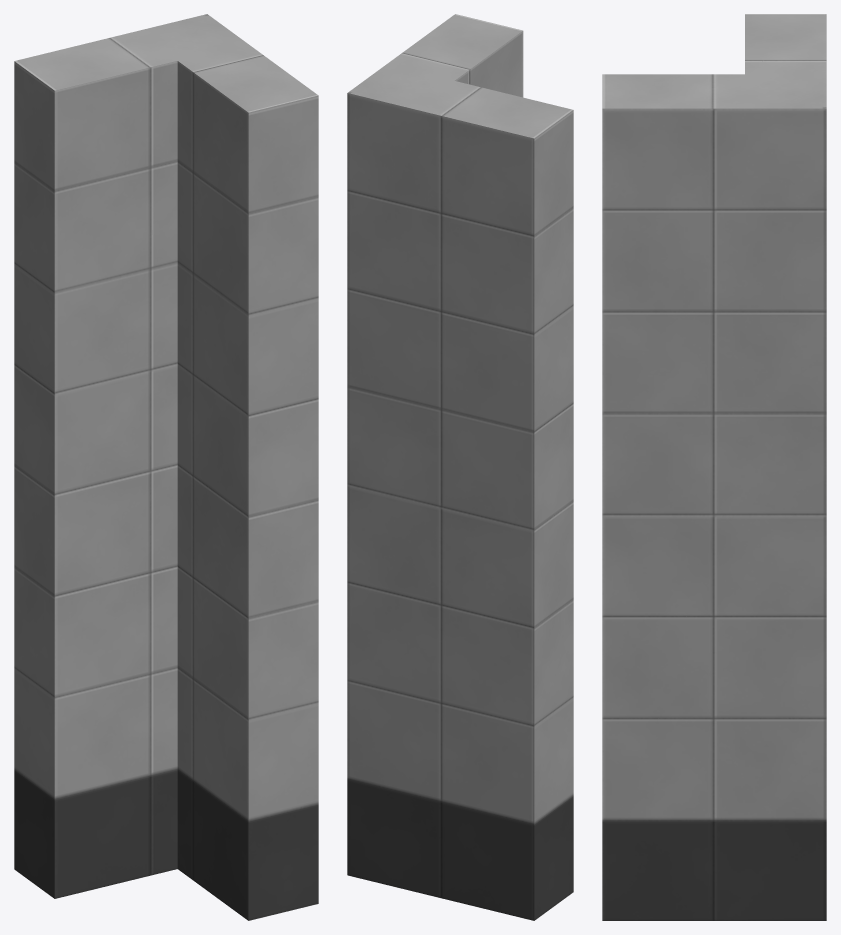
File: wall bathroom small corner.FBX
The picture shows the model from 3 angles, left to right: view 1: azimuth 30°, elevation 25°; view 2: azimuth 150°, elevation 25°; view 3: azimuth 270°, elevation 25°; orthographic projection. The views are drawn at different scales.
Parts seen in each view (by area): view 1: wall bathroom small corner; view 2: wall bathroom small corner; view 3: wall bathroom small corner.
Boxes of the visible parts, <box> form: wall bathroom small corner: <box>14,14,318,920</box>; wall bathroom small corner: <box>347,14,573,920</box>; wall bathroom small corner: <box>602,14,826,920</box>.
Size of the model in its own units: 27.5 by 27.5 by 110.
